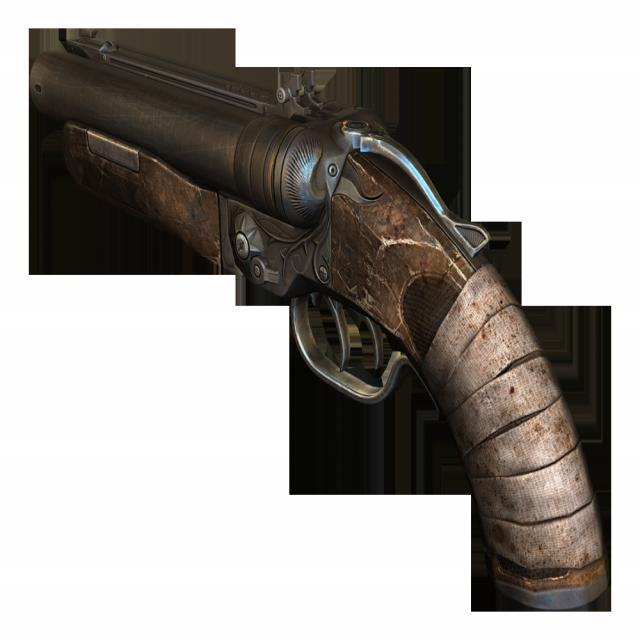shotgun: (20, 20, 621, 616)
